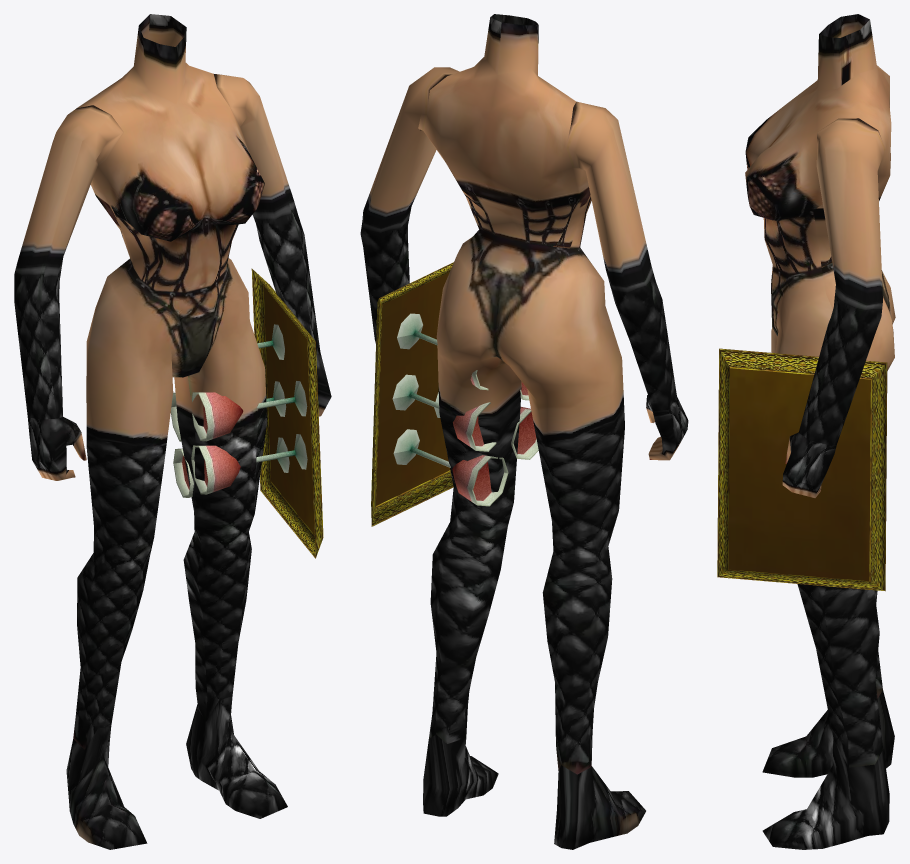
File: KM_WAITRESS.glb
3 renders of one model, left to right at view 1: azimuth 30°, elevation 25°; view 2: azimuth 150°, elevation 25°; view 3: azimuth 270°, elevation 25°, orthographic. The views are drawn at different scales.
Visible parts, largest first — view 1: KM_WAITRESS; view 2: KM_WAITRESS; view 3: KM_WAITRESS.
Boxes of the visible parts, x1,y1,x2,y2 form: KM_WAITRESS: (14,14,331,849); KM_WAITRESS: (360,14,688,849); KM_WAITRESS: (717,14,895,849).
Bounding box in the file's own units: 0.6425 × 1.67 × 0.3432.
Materials: 3 (3 with a texture image).
